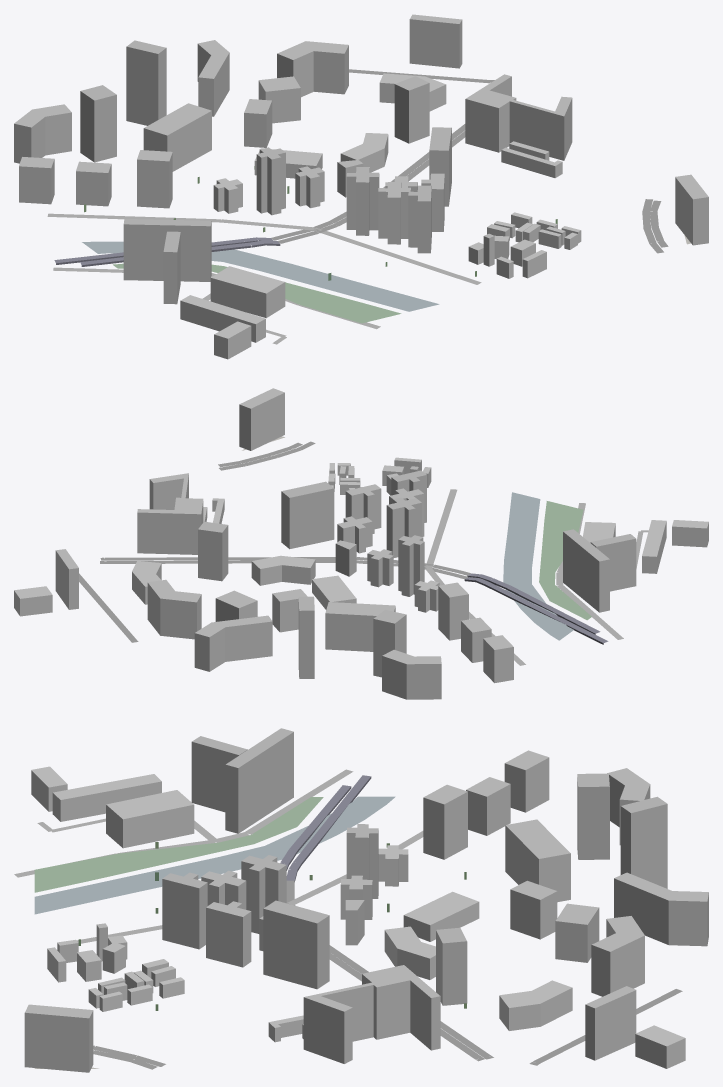
3 views of the same model, one above another, from view 1: azimuth 30°, elevation 25°; view 2: azimuth 150°, elevation 25°; view 3: azimuth 270°, elevation 25° (orthographic). The views are drawn at different scales.
Size of the model in its own units: 560 by 79.99 by 541.
